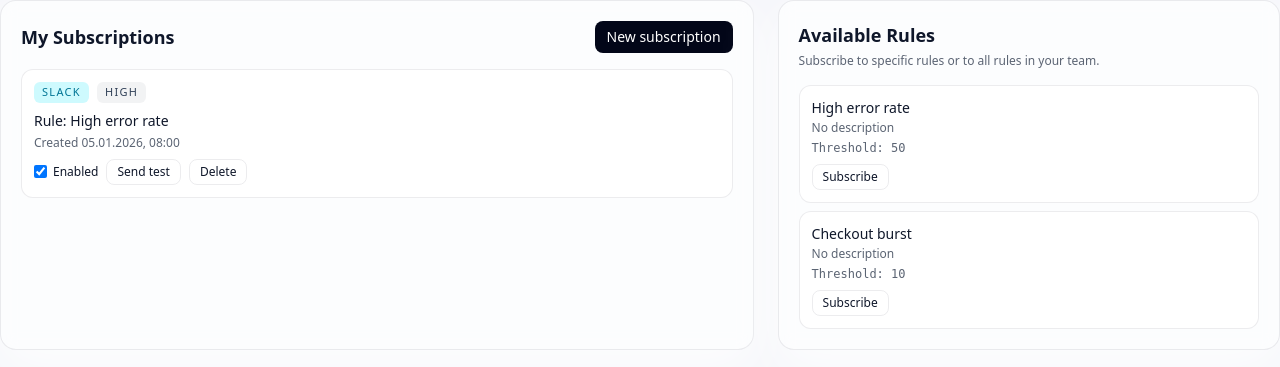
Test: enable, disable and test › shows the API message and keeps the old state when the update fails
Click the checkbox named "Enabled: SLACK subscription": click(40, 172) [34,165,47,178]
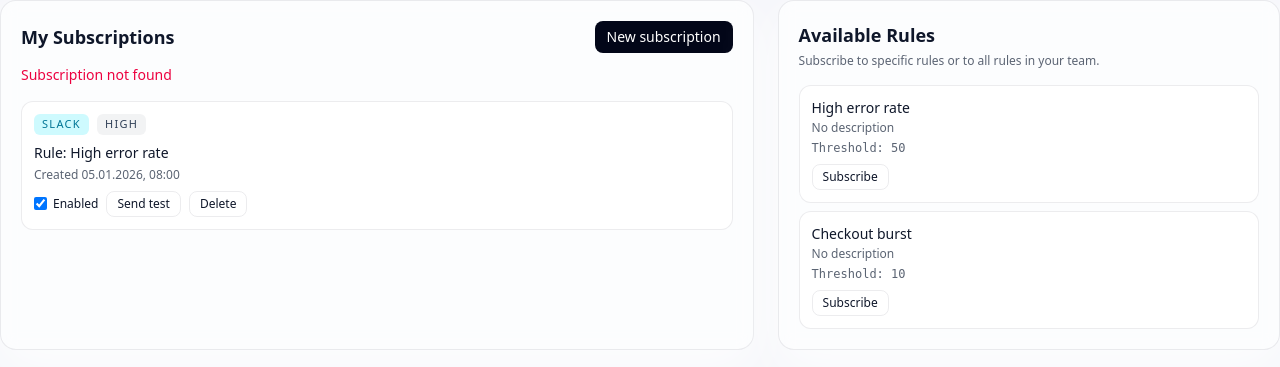
Check: the message reads "Subscription not found", box [21,65,172,84]
